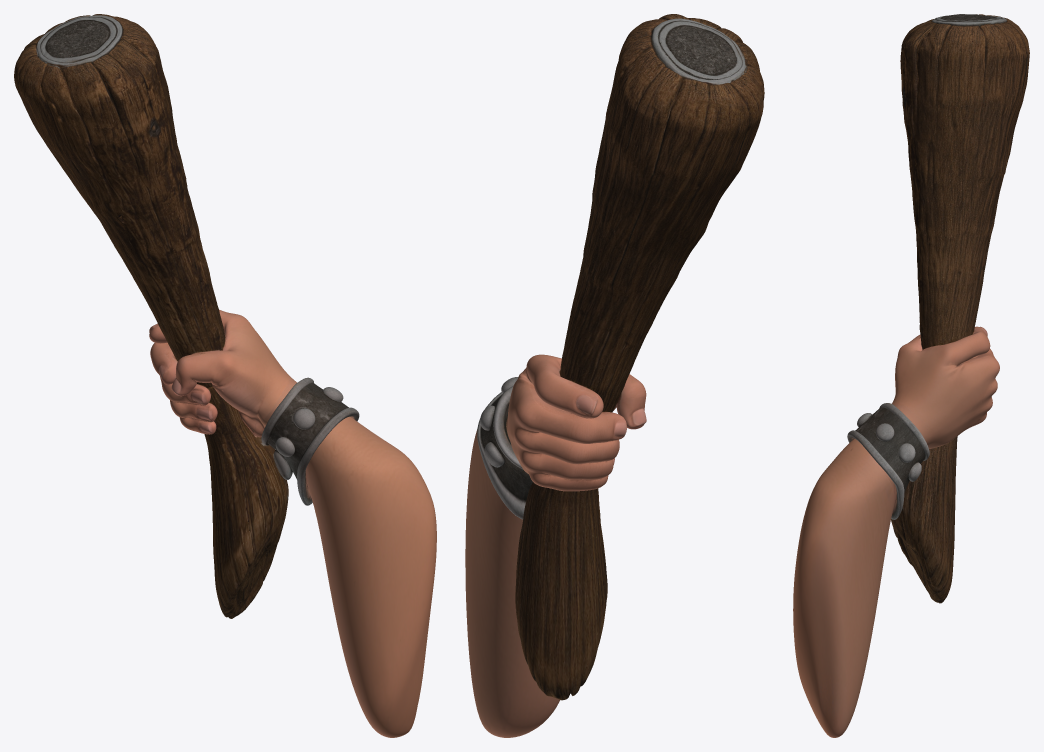
File: right-arm-club.glb
The picture shows the model from 3 angles, left to right: view 1: azimuth 30°, elevation 25°; view 2: azimuth 150°, elevation 25°; view 3: azimuth 270°, elevation 25°; orthographic projection. The views are drawn at different scales.
Visible parts, largest first — view 1: right-arm-club; view 2: right-arm-club; view 3: right-arm-club.
Boxes of the visible parts, left/top/right/bottom form: right-arm-club: left=14, top=14, right=436, bottom=737; right-arm-club: left=465, top=14, right=764, bottom=737; right-arm-club: left=793, top=14, right=1029, bottom=737.
Bounding box in the file's own units: 1.23 × 2.55 × 0.8779.
Materials: 1 (1 with a texture image).
